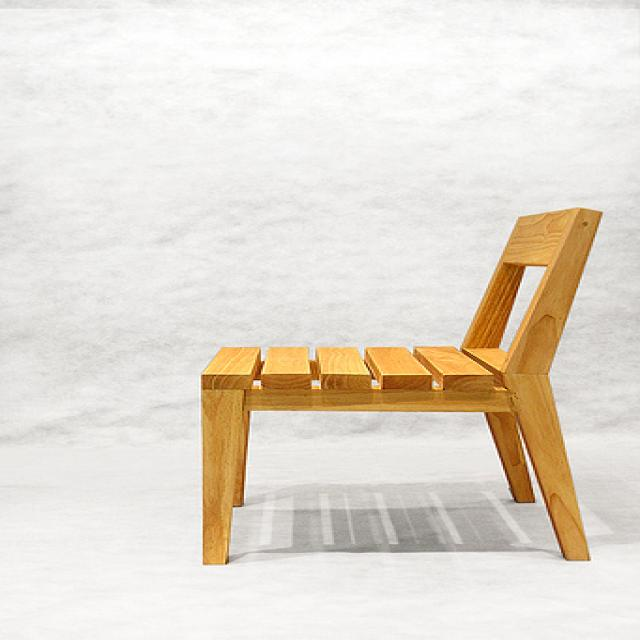chair: (199, 206, 602, 565)
